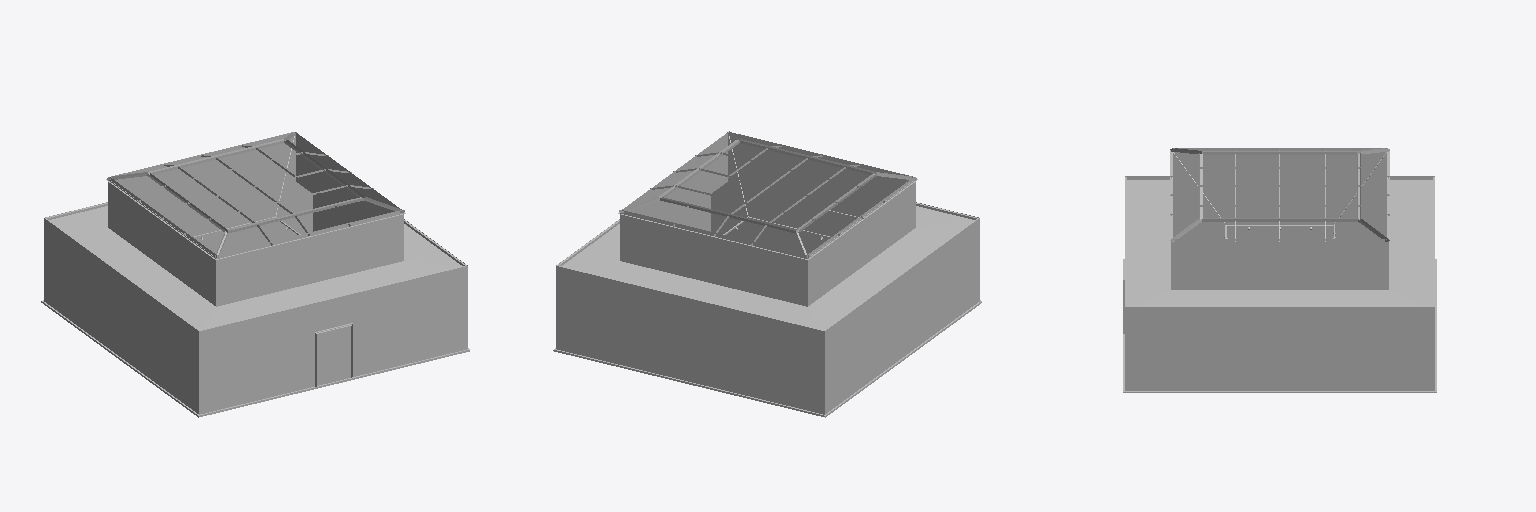
The model's file is gallery.obj.
3 views of the same model, side by side, from view 1: azimuth 30°, elevation 25°; view 2: azimuth 150°, elevation 25°; view 3: azimuth 270°, elevation 25° (orthographic).
Parts seen in each view (by area): view 1: VR_Gallery_Cylinder.001; view 2: VR_Gallery_Cylinder.001; view 3: VR_Gallery_Cylinder.001.
Part boxes in pixels (x1,y1,x2,y2): VR_Gallery_Cylinder.001: (41, 132, 469, 417); VR_Gallery_Cylinder.001: (553, 131, 981, 417); VR_Gallery_Cylinder.001: (1123, 148, 1436, 392).
Size of the model in its own units: 10.12 by 5.05 by 10.12.